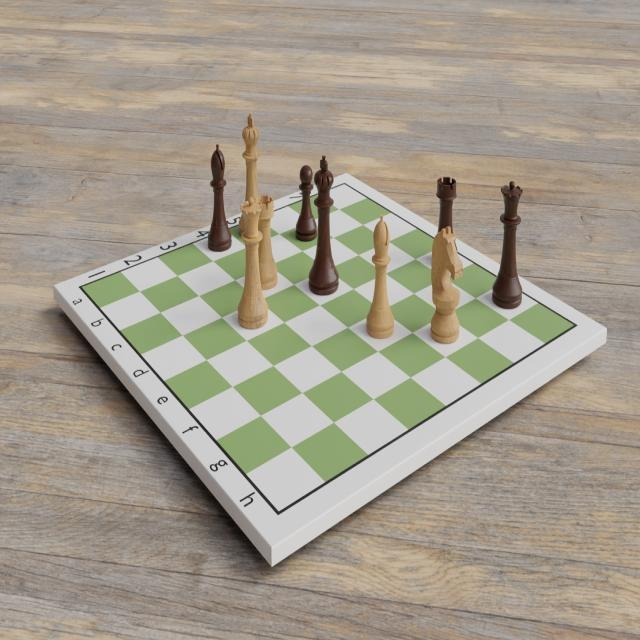black-bishop: (207, 139, 233, 253)
black-king: (308, 153, 340, 296)
black-pawn: (294, 162, 318, 241)
black-queen: (491, 179, 524, 312)
black-rook: (433, 174, 458, 266)
white-bishop: (365, 212, 395, 340)
white-king: (237, 111, 267, 240)
white-knight: (429, 225, 463, 345)
white-queen: (237, 195, 269, 331)
white-rook: (244, 193, 279, 291)
